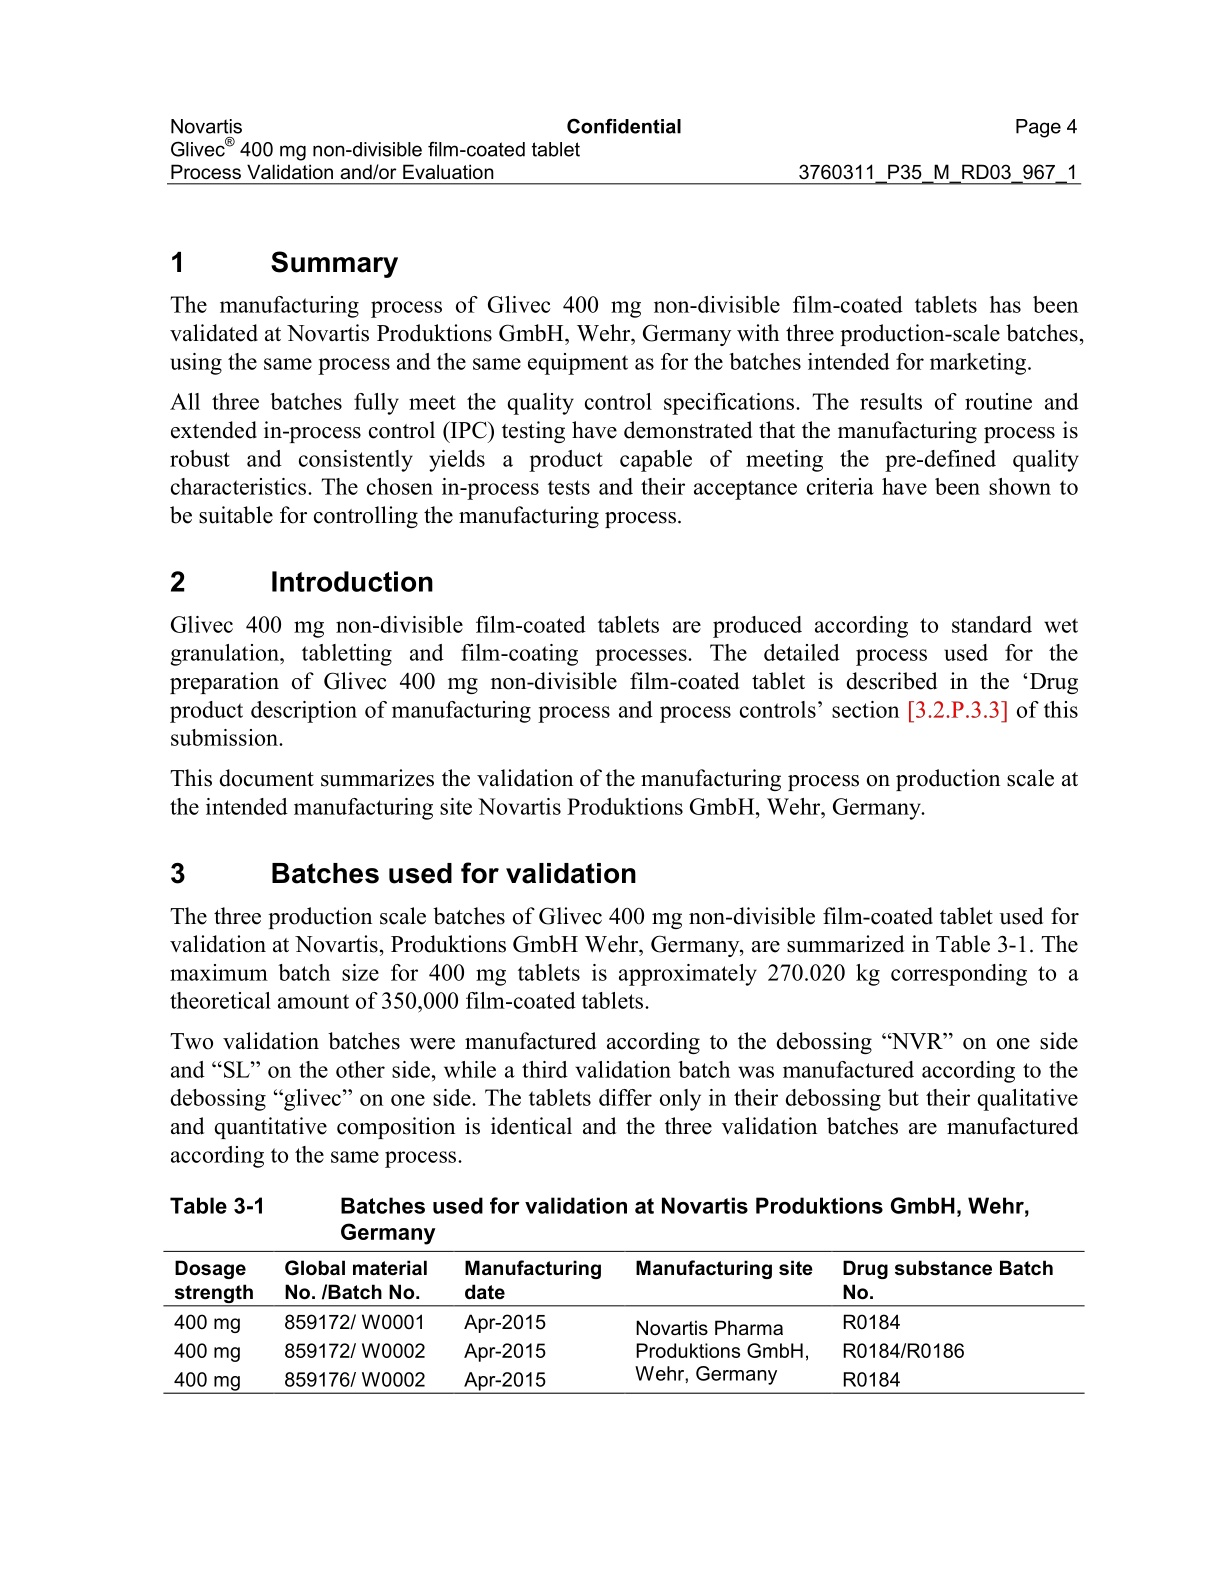partial_lined: (165, 1251, 1085, 1394)
